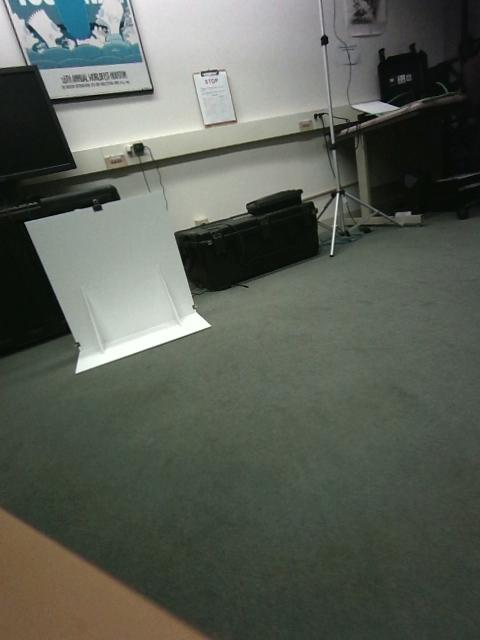block: (317, 333, 372, 406)
